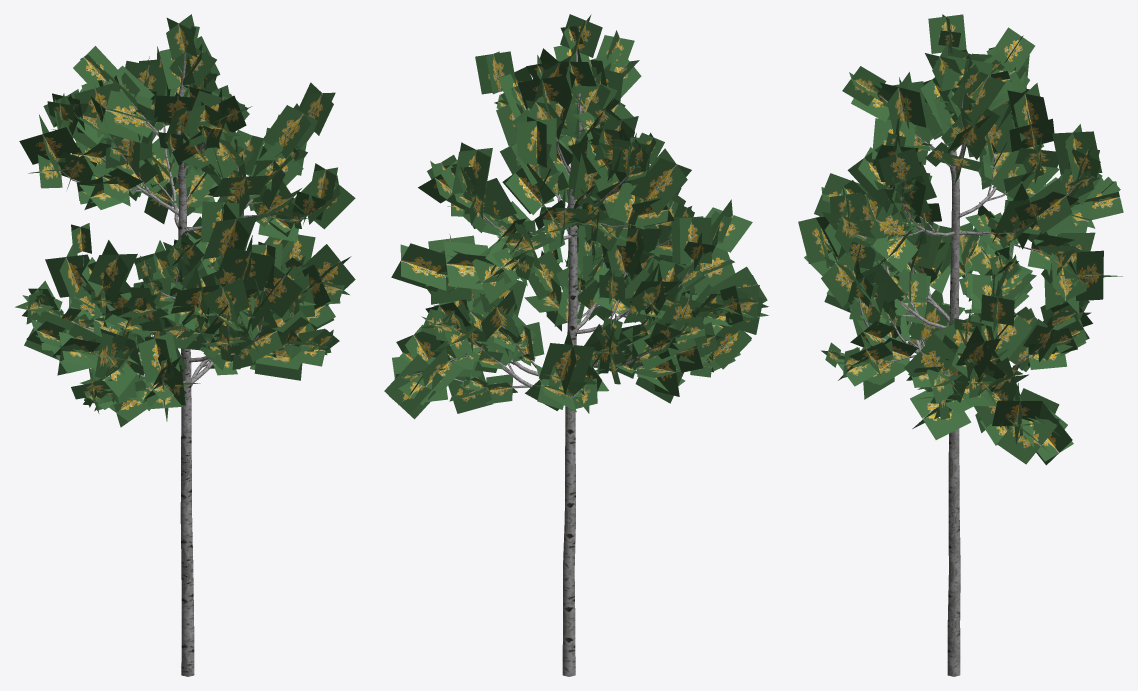
Rendered from tree_aspen_medium.glb.
3 views of the same model, side by side, from view 1: azimuth 30°, elevation 25°; view 2: azimuth 150°, elevation 25°; view 3: azimuth 270°, elevation 25° (orthographic).
Visible parts, largest first — view 1: Leaves, Branches; view 2: Leaves, Branches; view 3: Leaves, Branches.
Boxes of the visible parts, x1=… form: Leaves: x1=15, y1=14, x2=355, y2=427; Branches: x1=48, y1=52, x2=311, y2=676; Leaves: x1=384, y1=14, x2=768, y2=419; Branches: x1=413, y1=50, x2=711, y2=676; Leaves: x1=798, y1=14, x2=1123, y2=465; Branches: x1=855, y1=48, x2=1082, y2=676.
Bounding box in the file's own units: 5.39 × 10.8 × 4.87.
2 materials, 2 textured.
